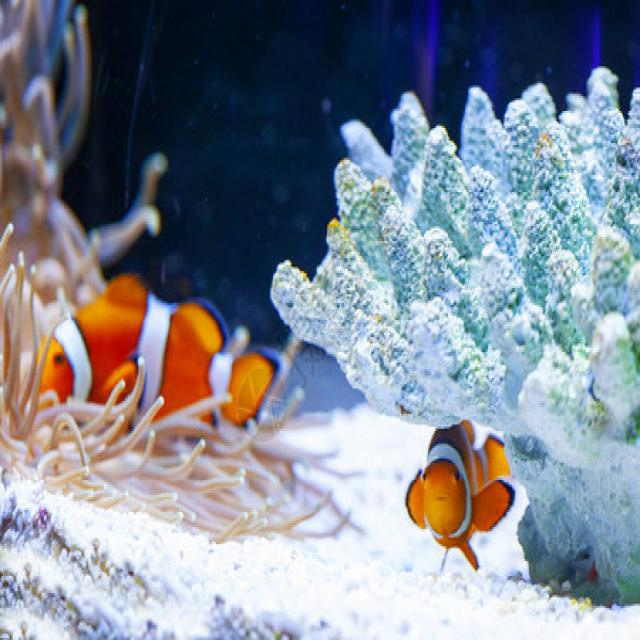ClownFish: (42, 271, 300, 433), (402, 411, 517, 576)
